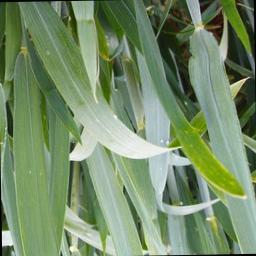Wheat: (189, 60, 256, 252), (10, 82, 59, 249)
